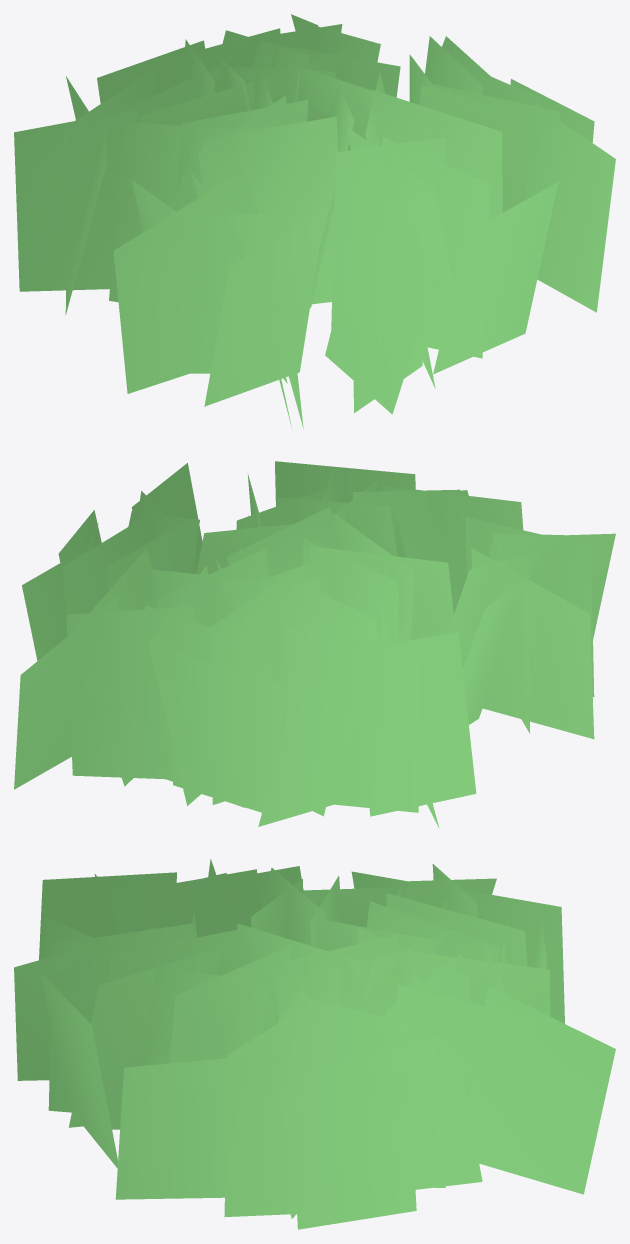
The model's file is SM_Grass.glb.
3 renders of one model, top to bottom at view 1: azimuth 30°, elevation 25°; view 2: azimuth 150°, elevation 25°; view 3: azimuth 270°, elevation 25°, orthographic. The views are drawn at different scales.
Parts seen in each view (by area): view 1: IL3DN_Plant_Grass_02_LOD0; view 2: IL3DN_Plant_Grass_02_LOD0; view 3: IL3DN_Plant_Grass_02_LOD0.
Part boxes in pixels (x1=…): IL3DN_Plant_Grass_02_LOD0: x1=14, y1=14, x2=615, y2=428; IL3DN_Plant_Grass_02_LOD0: x1=14, y1=461, x2=615, y2=828; IL3DN_Plant_Grass_02_LOD0: x1=14, y1=859, x2=615, y2=1229.
Bounding box in the file's own units: 1.78 × 0.6935 × 1.89.
